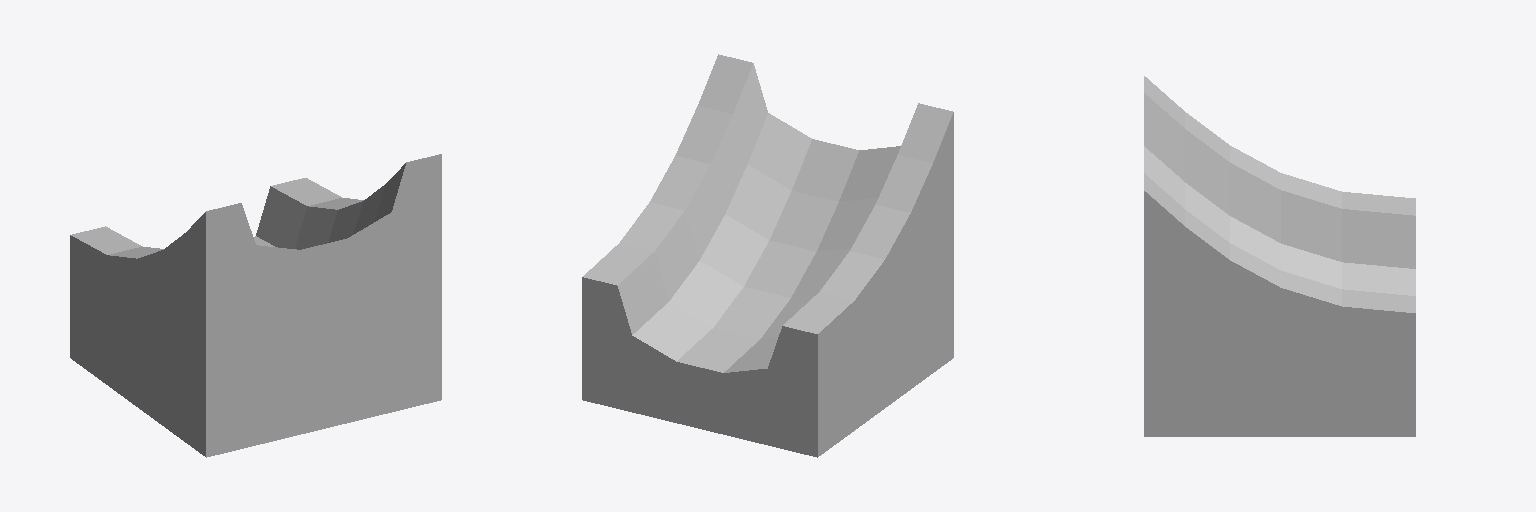
Rendered from ramp-start-solid-c.obj.
3 renders of one model, left to right at view 1: azimuth 30°, elevation 25°; view 2: azimuth 150°, elevation 25°; view 3: azimuth 270°, elevation 25°, orthographic.
Visible parts, largest first — view 1: ramp-start-solid-c; view 2: ramp-start-solid-c; view 3: ramp-start-solid-c.
Boxes of the visible parts, x1=… form: ramp-start-solid-c: x1=70, y1=154, x2=441, y2=457; ramp-start-solid-c: x1=582, y1=54, x2=953, y2=457; ramp-start-solid-c: x1=1144, y1=76, x2=1415, y2=436.
Size of the model in its own units: 1 by 1 by 1.